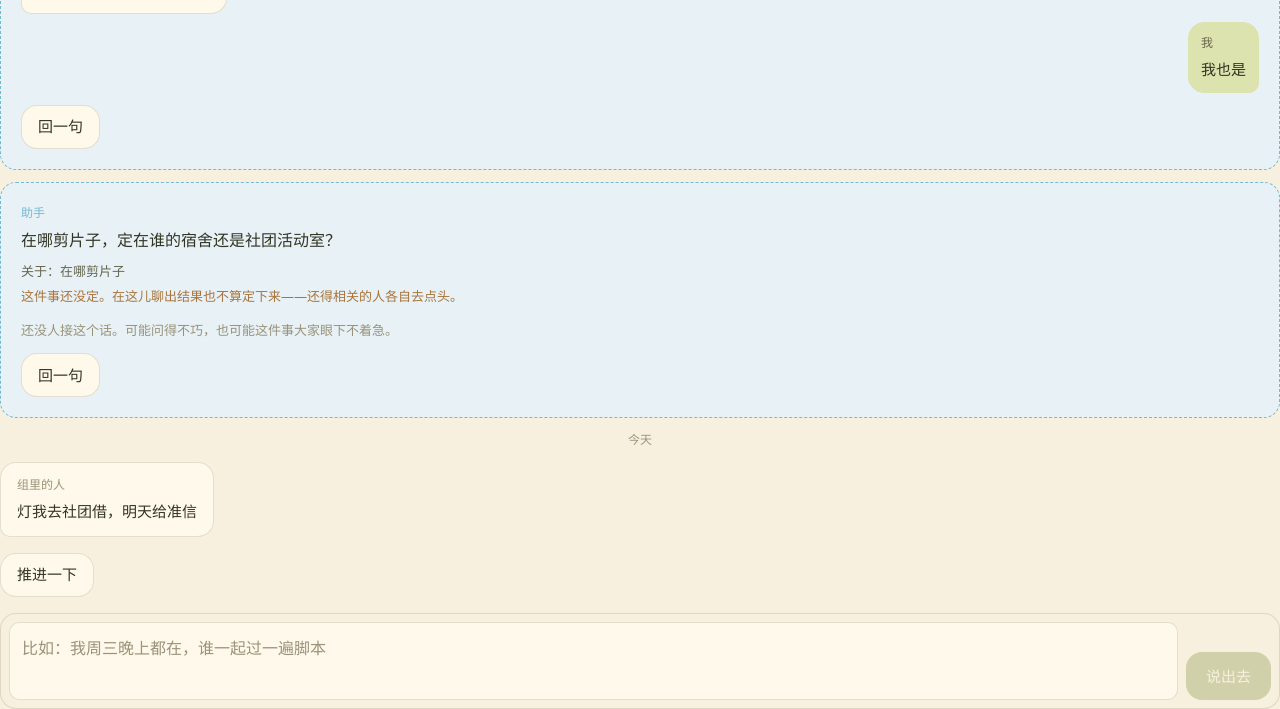
Test: 五态 › 降级：起话头那一下挂了时有人话的兜底，群聊照常
This screenshot has width=1280, height=709.
(page scrolled)
Click the button "推进一下": (47, 575) [0,553,94,597]
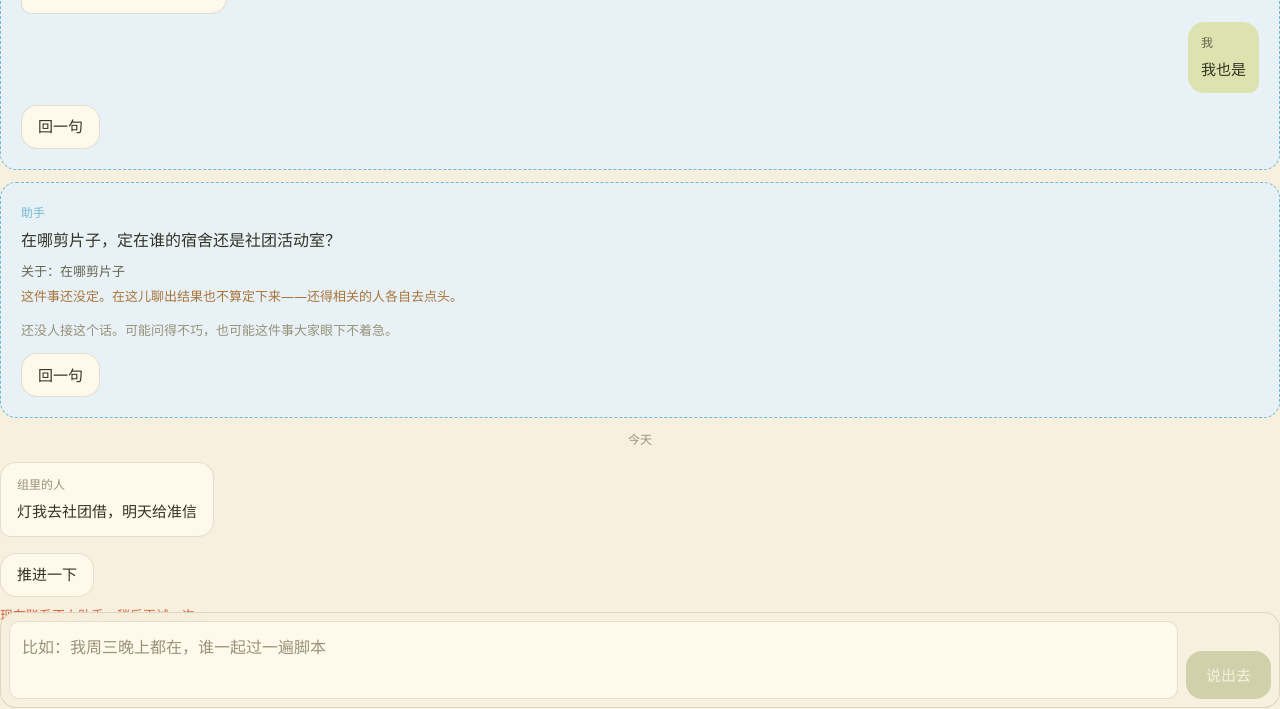
Check: the text box named "说一句" is enabled, box [9,621,1178,700]
Check: the message "现在联系不上助手，稍后再试一次。" is shown, box [0,606,208,624]
